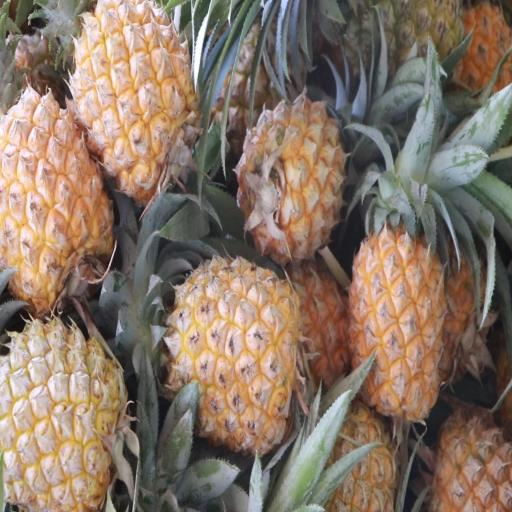Pineapple - v8 v1: (0, 88, 113, 309), (171, 256, 300, 444), (0, 321, 126, 512), (76, 0, 198, 192), (348, 216, 446, 417), (238, 94, 345, 258)
